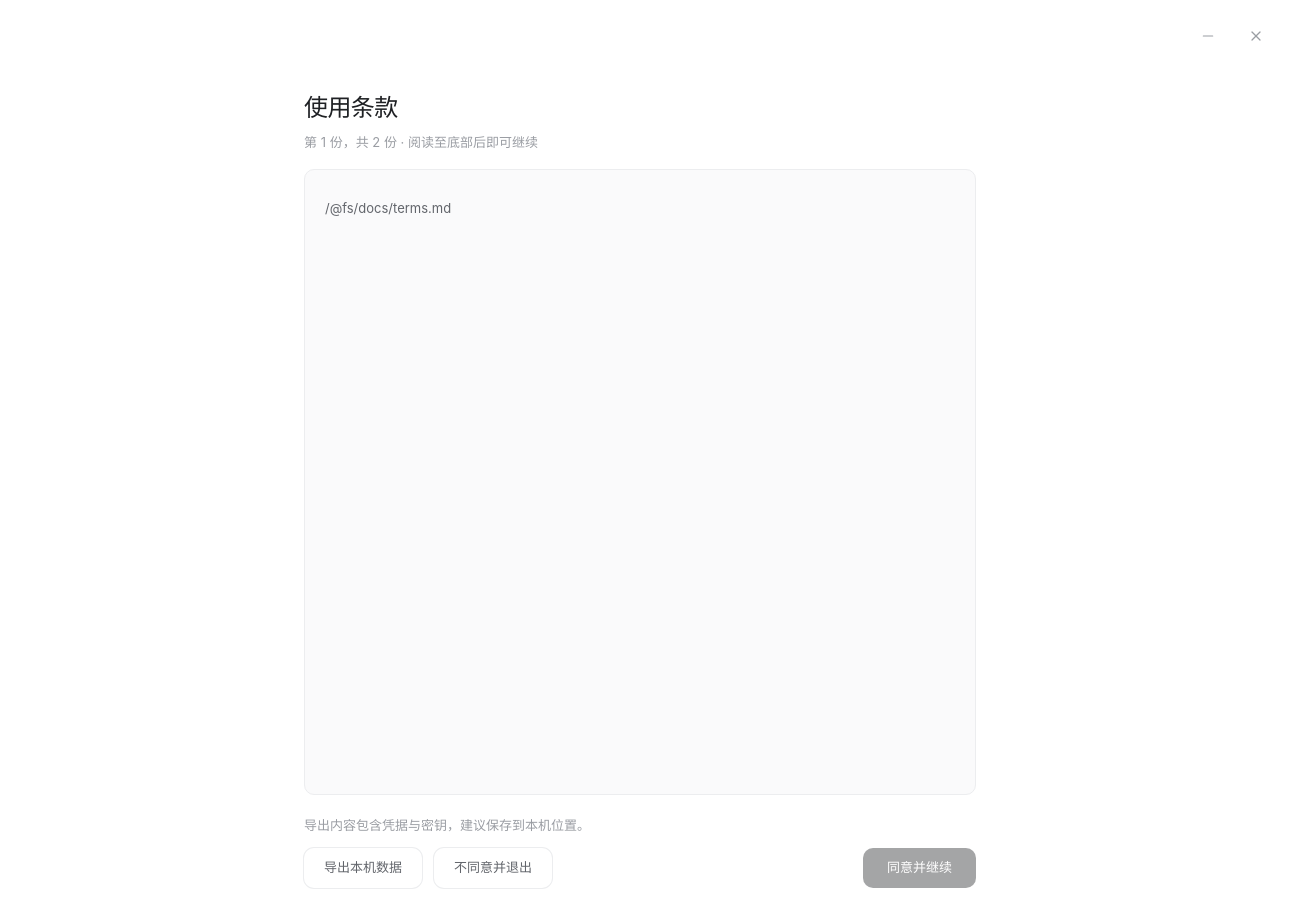
导出成功后显示保存位置
Click the button "导出本机数据" at (363, 868), box [304,848,422,888]
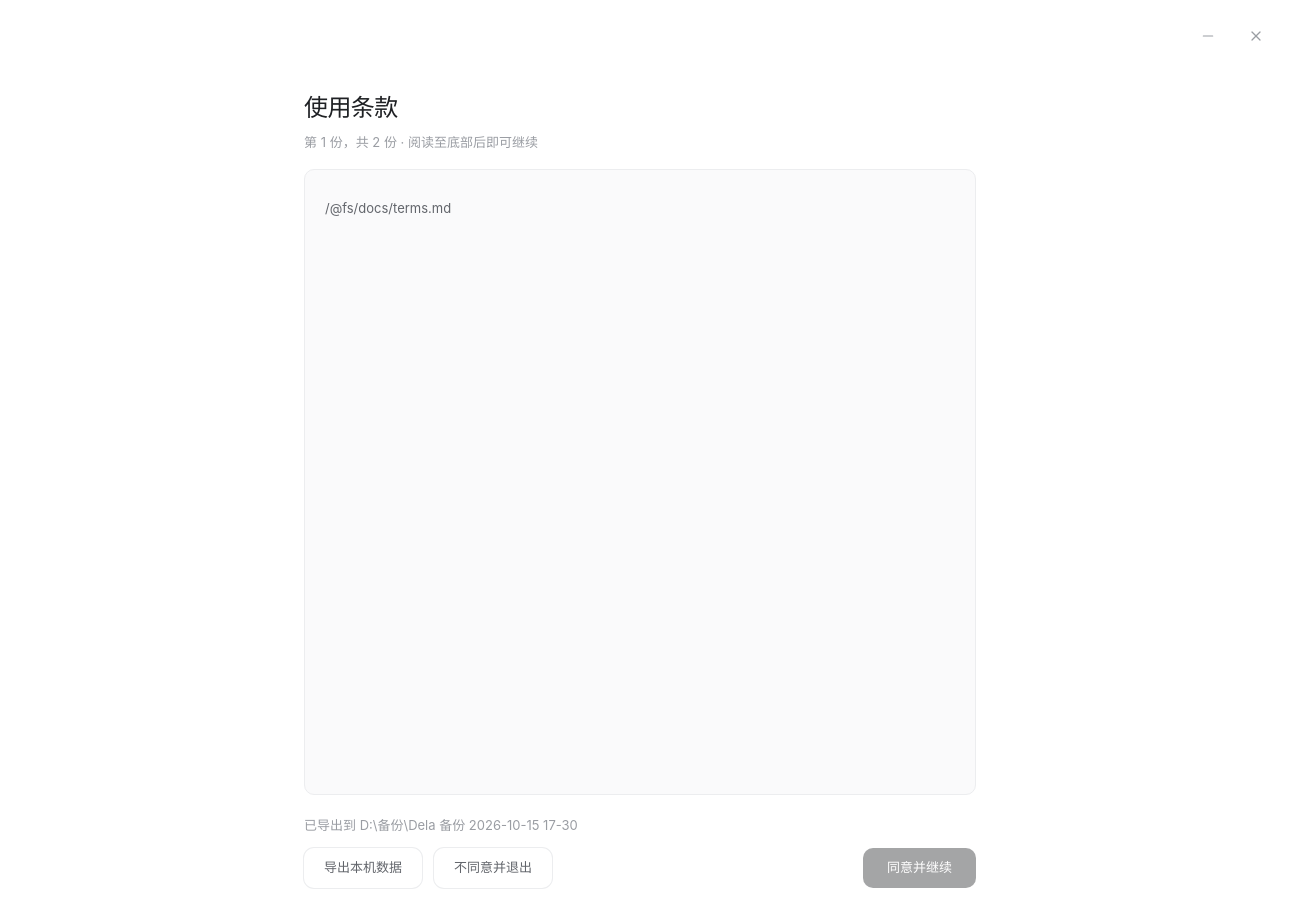
Check: the text "D:\\备份\\Dela 备份 2026-10-15 17-30" is shown, box [304,817,578,833]
